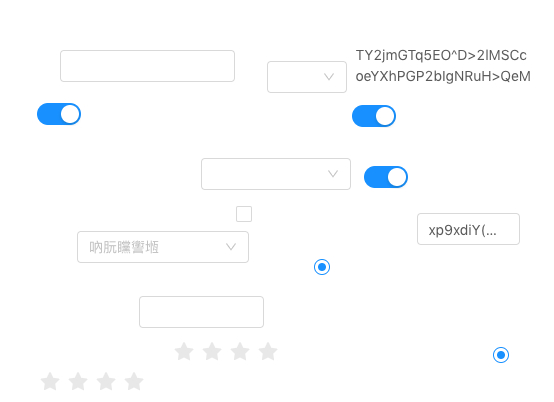Checkbox: (236, 203, 252, 224)
Input: (60, 50, 235, 82), (139, 296, 264, 328), (417, 213, 520, 245)
Radio: (314, 256, 330, 276), (493, 344, 509, 364)
Rate: (40, 365, 160, 397), (174, 335, 294, 367)
Select: (77, 231, 249, 263), (201, 158, 351, 190), (267, 61, 347, 93)
Switch: (364, 165, 408, 189), (352, 104, 396, 128), (37, 102, 81, 126)
Text: (356, 44, 535, 86)
